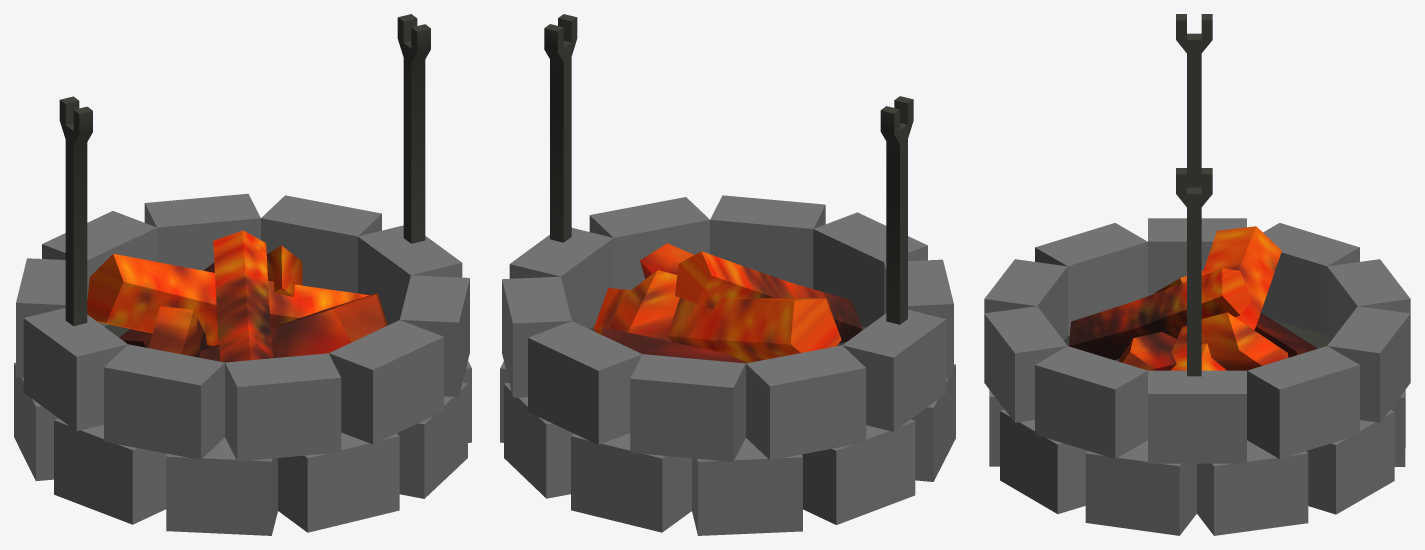
File: brazier_01.fbx
3 views of the same model, side by side, from view 1: azimuth 30°, elevation 25°; view 2: azimuth 150°, elevation 25°; view 3: azimuth 270°, elevation 25° (orthographic). The views are drawn at different scales.
Parts seen in each view (by area): view 1: brazier_01; view 2: brazier_01; view 3: brazier_01.
Boxes of the visible parts, x1,y1,x2,y2 form: brazier_01: (14,14,471,535); brazier_01: (500,14,955,535); brazier_01: (984,14,1410,535).
Size of the model in its own units: 3.92 by 3.57 by 3.92.
